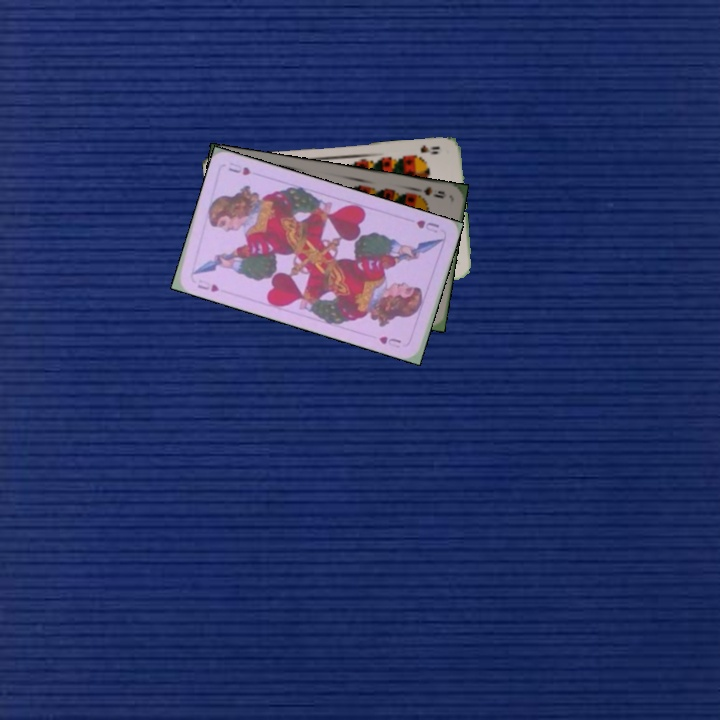HU: (413, 216, 442, 235), (193, 280, 222, 295)
S9: (406, 141, 442, 161), (410, 183, 448, 201)
